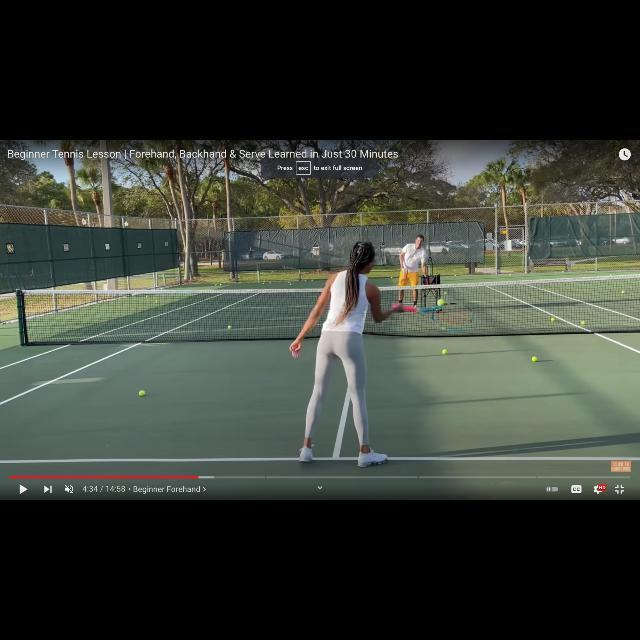tennis-ball: (531, 356, 537, 362), (139, 390, 145, 396), (442, 350, 447, 355)
